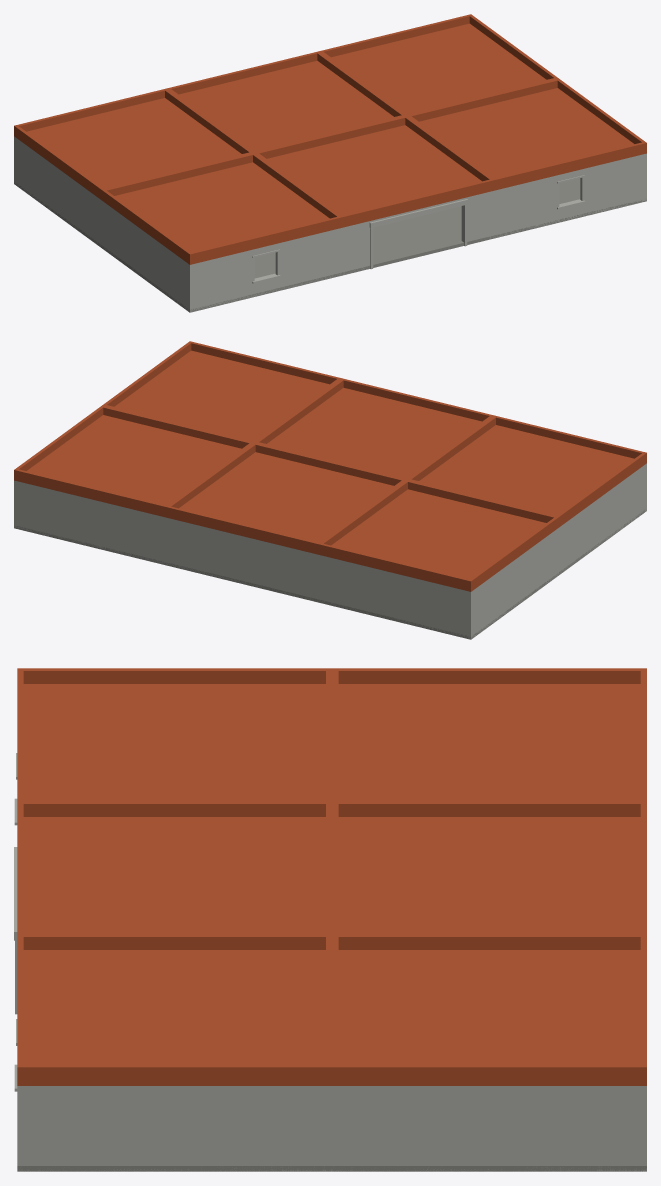
Rendered from warehouse.glb.
The picture shows the model from 3 angles, top to bottom: view 1: azimuth 30°, elevation 25°; view 2: azimuth 150°, elevation 25°; view 3: azimuth 270°, elevation 25°; orthographic projection. The views are drawn at different scales.
Visible parts, largest first — view 1: warehouse; view 2: warehouse; view 3: warehouse.
Part boxes in pixels (box(x1,y1,x2,y2)): warehouse: box(14, 14, 646, 312); warehouse: box(14, 341, 646, 639); warehouse: box(14, 668, 646, 1171).
Bounding box in the file's own units: 30 × 3.66 × 20.11.
